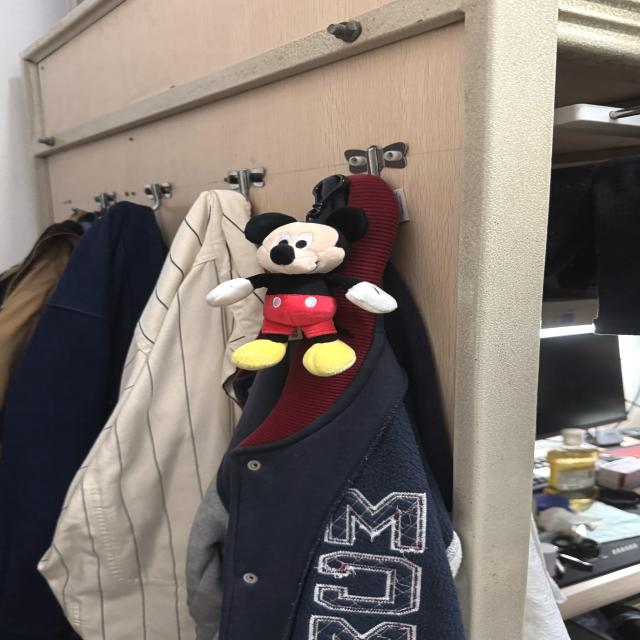mickey: (207, 207, 396, 376)
